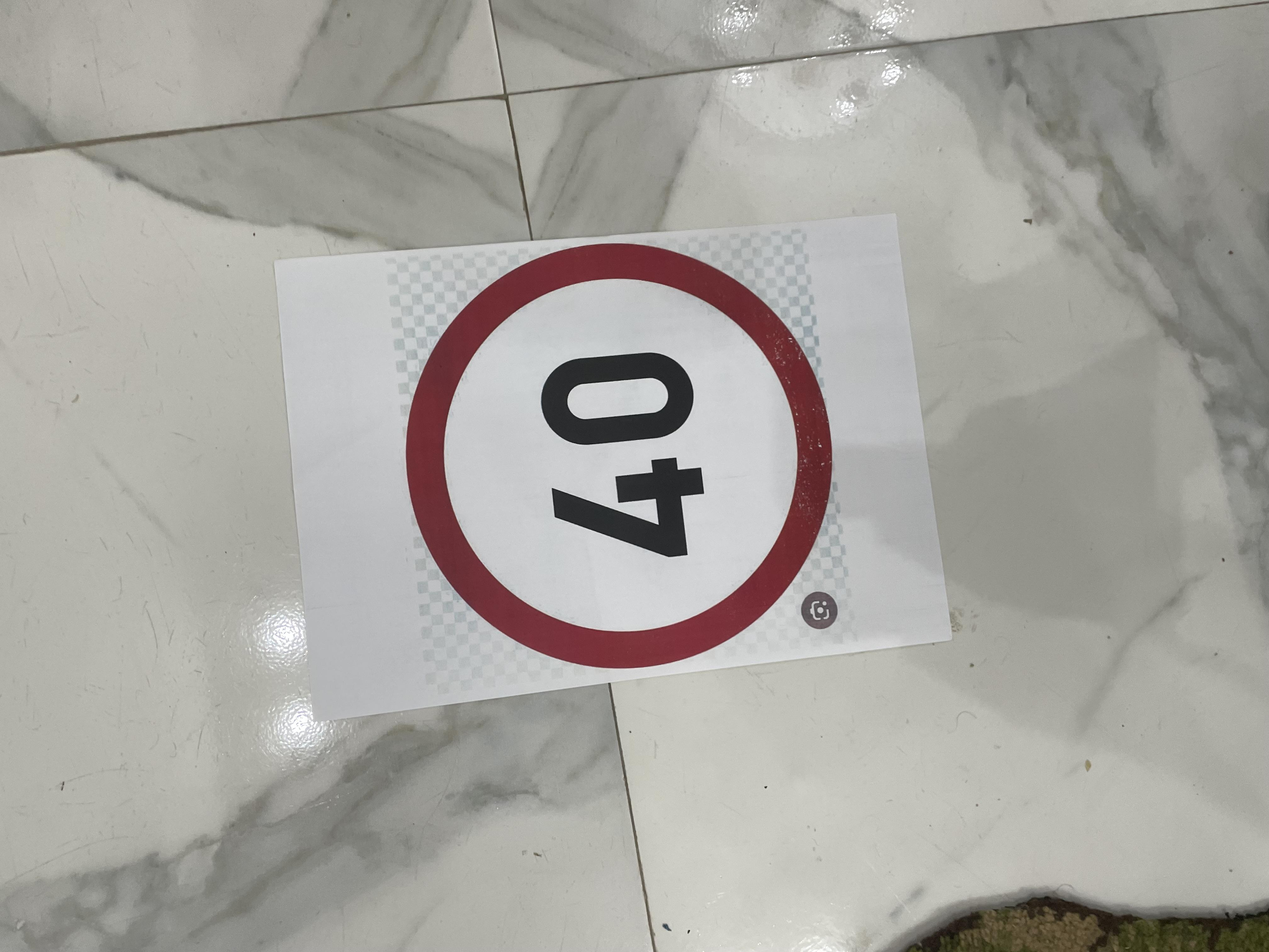40-Speed: (366, 305, 962, 626)
